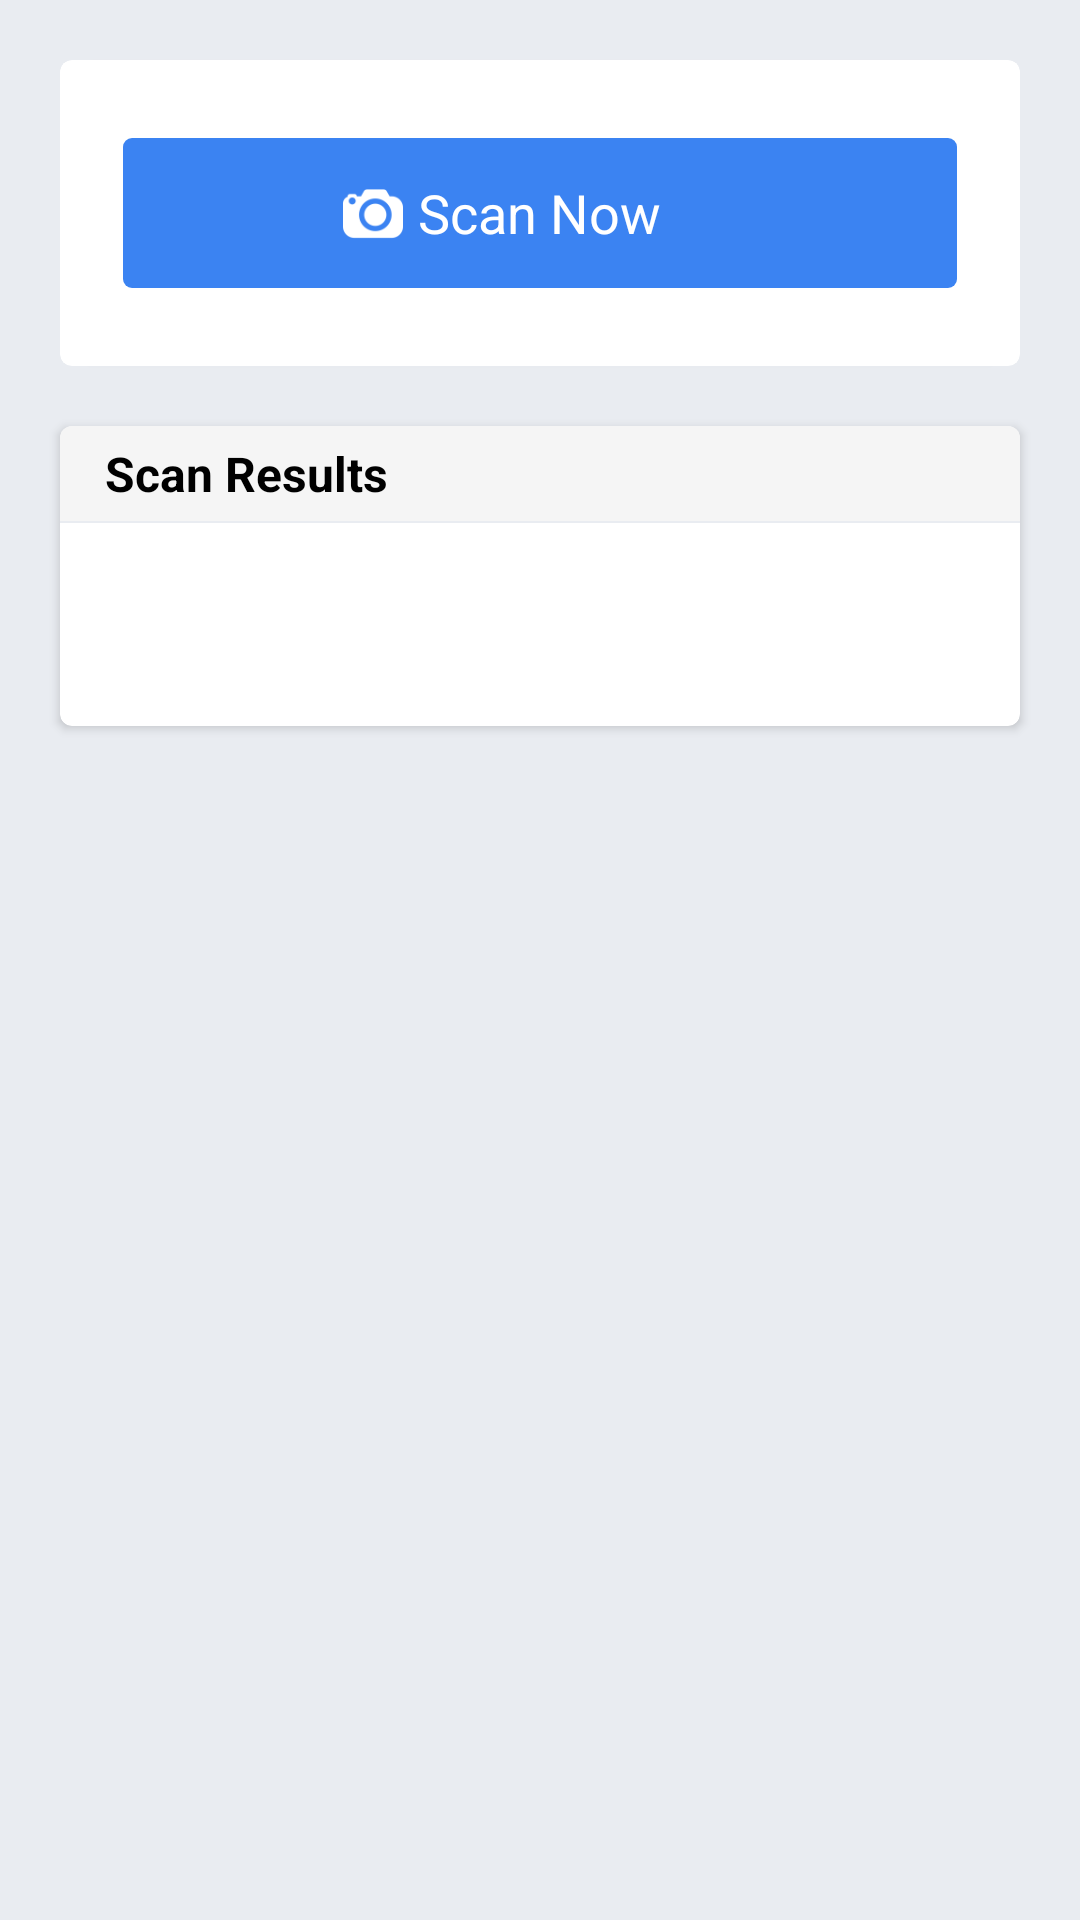

Screen size 1080 x 1920. Icon name, then its box in pixels as (x1, y1, x2, y2):
camera: (343, 189, 403, 238)
